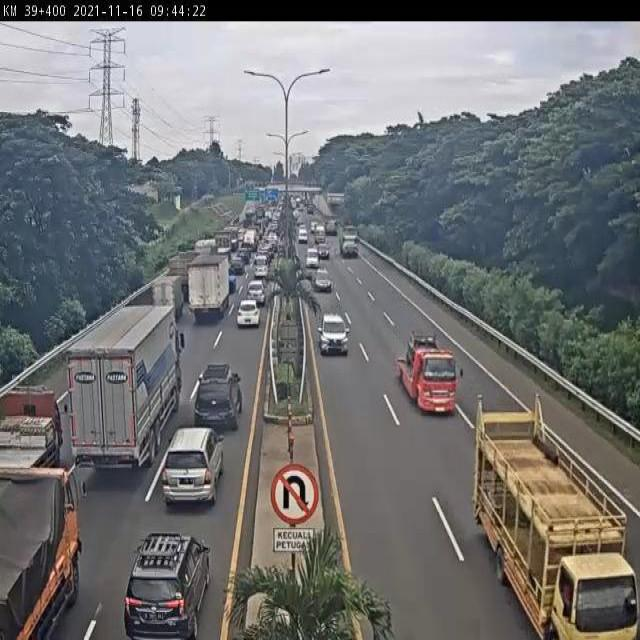car: (127, 530, 205, 634), (158, 434, 220, 514), (195, 368, 242, 432), (322, 312, 350, 355), (237, 303, 260, 328), (247, 283, 266, 305), (314, 268, 330, 293), (254, 255, 269, 277), (306, 249, 319, 267), (319, 240, 329, 260), (231, 257, 243, 271), (298, 230, 307, 242)
small truck: (397, 321, 455, 416), (152, 278, 179, 318), (243, 229, 258, 251), (325, 218, 340, 238), (314, 224, 327, 243)
truck-l-: (70, 308, 185, 480), (339, 228, 357, 257)
truck-m-: (475, 389, 640, 640), (0, 468, 89, 640), (0, 386, 68, 471), (188, 256, 232, 321)
